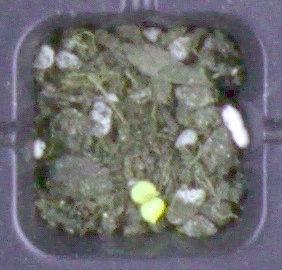chilli seed: (128, 180, 158, 204), (140, 198, 165, 225)
